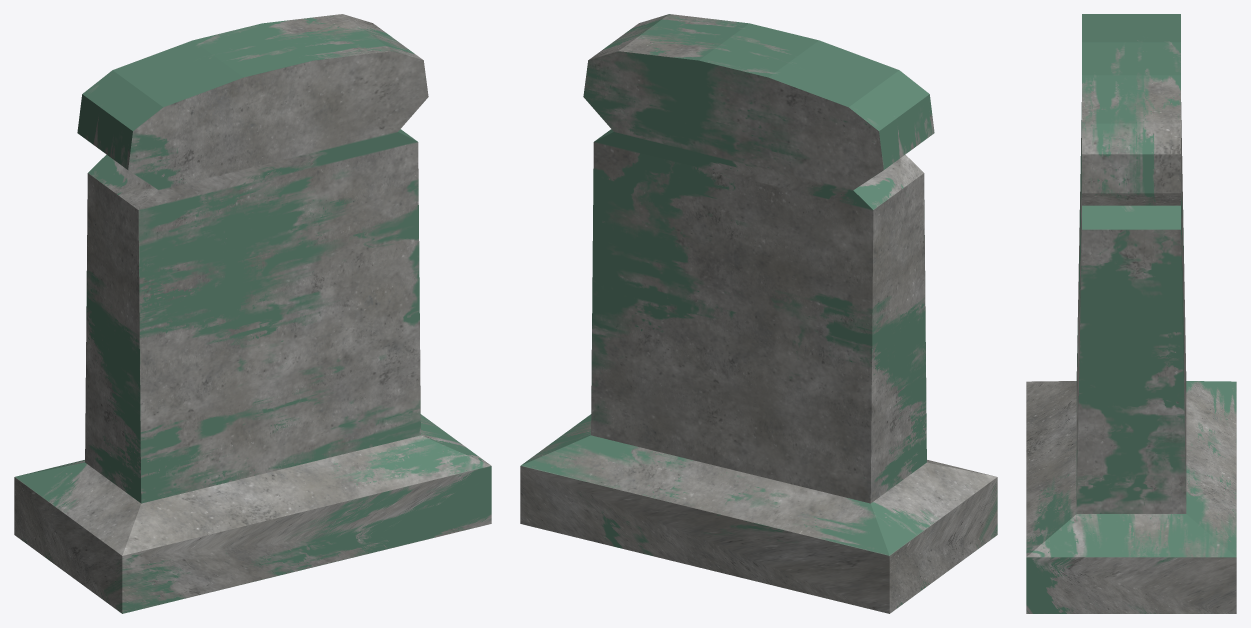
Rendered from TraditionalGravestone_Ready.fbx.
3 views of the same model, side by side, from view 1: azimuth 30°, elevation 25°; view 2: azimuth 150°, elevation 25°; view 3: azimuth 270°, elevation 25° (orthographic). The views are drawn at different scales.
Visible parts, largest first — view 1: Traditional Gravestone; view 2: Traditional Gravestone; view 3: Traditional Gravestone.
Boxes of the visible parts, x1,y1,x2,y2 form: Traditional Gravestone: [14, 14, 491, 613]; Traditional Gravestone: [520, 14, 997, 613]; Traditional Gravestone: [1026, 14, 1236, 613].
Size of the model in its own units: 395 by 490 by 200.
